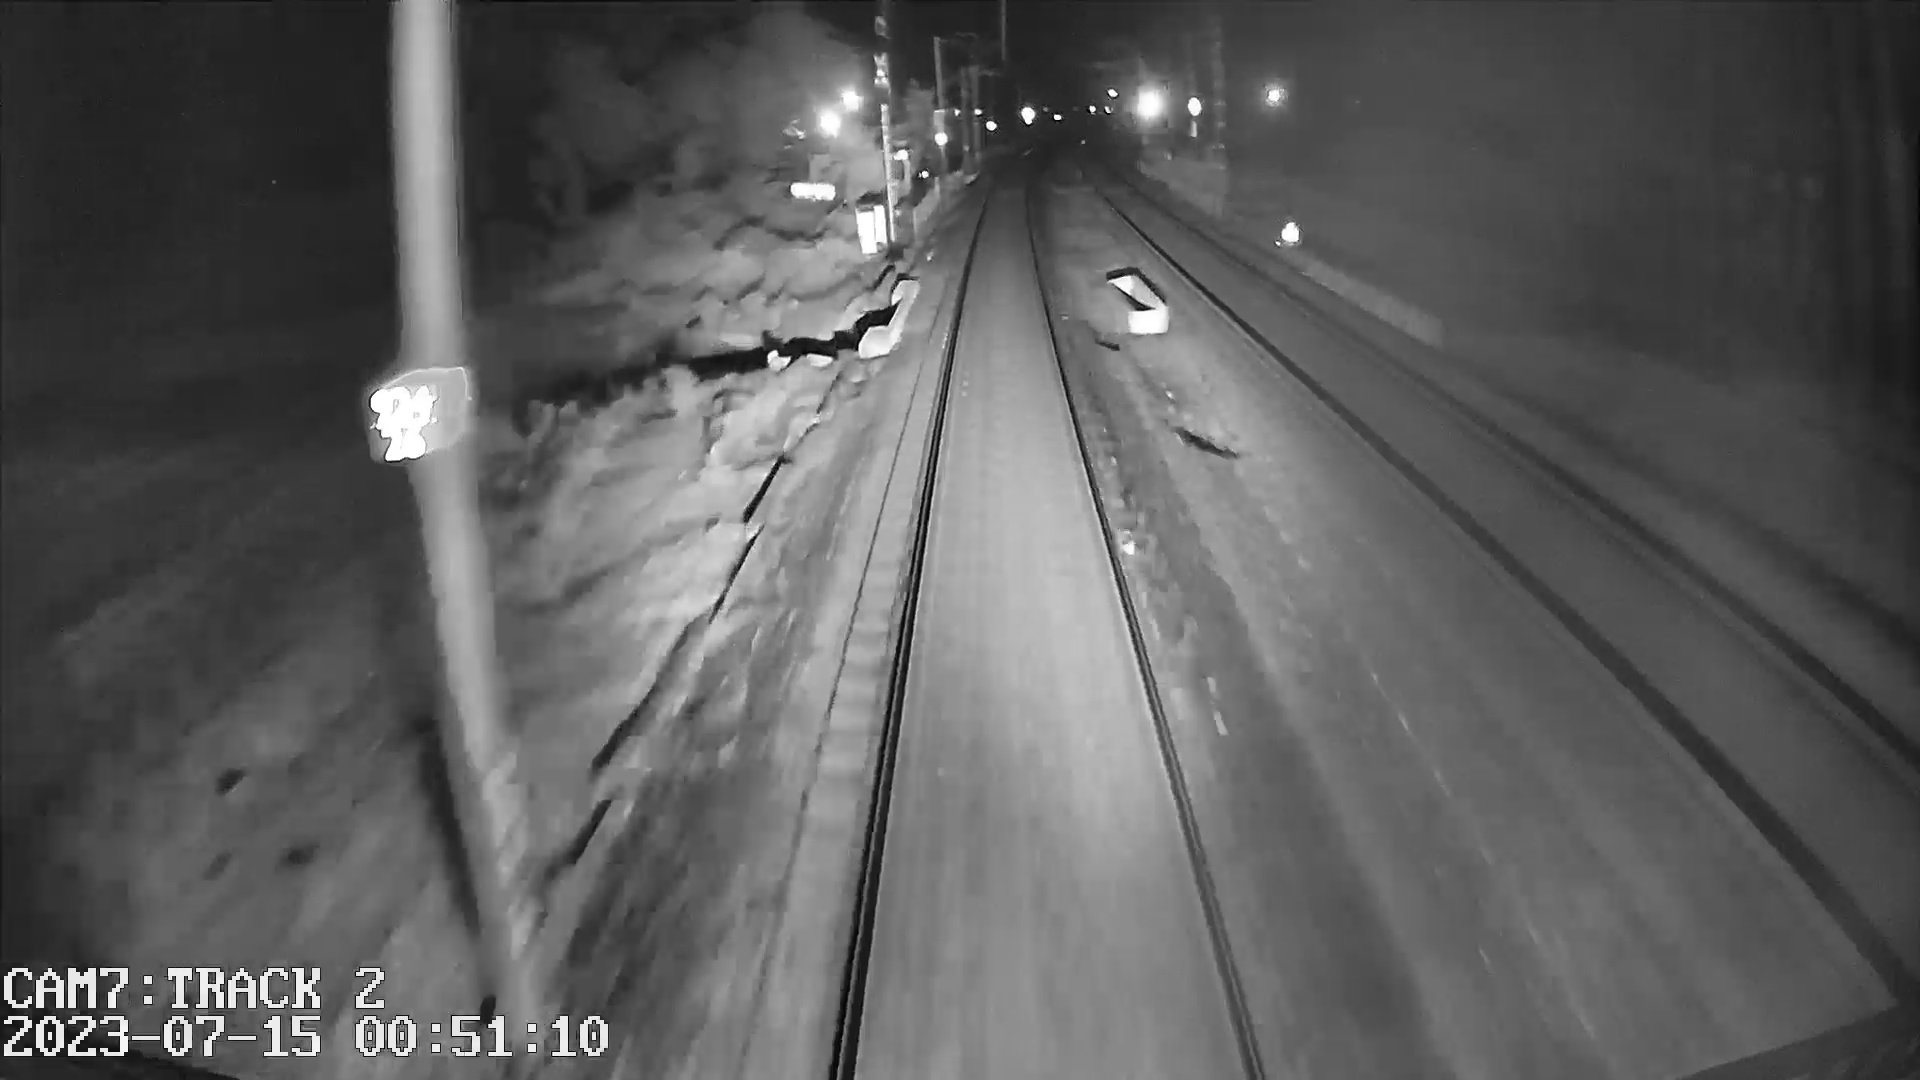track1: (841, 194, 1249, 1048)
track2: (1114, 199, 1911, 878)
